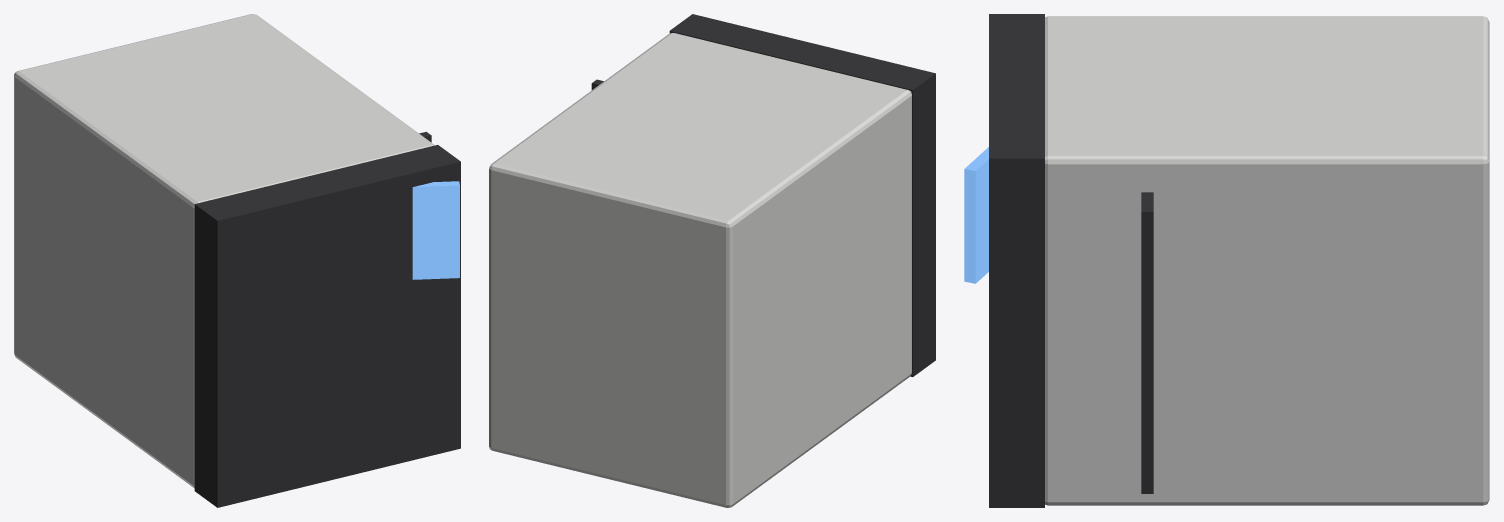
Rendered from printer_station.glb.
3 views of the same model, side by side, from view 1: azimuth 30°, elevation 25°; view 2: azimuth 150°, elevation 25°; view 3: azimuth 270°, elevation 25° (orthographic). The views are drawn at different scales.
Visible parts, largest first — view 1: printer_body, printer_top, printer_panel; view 2: printer_body, printer_top; view 3: printer_body, printer_top, printer_tray, printer_panel.
Part boxes in pixels (x1,y1,x2,y2): printer_body: (14,14,434,488); printer_top: (194,145,460,507); printer_panel: (412,181,459,279); printer_body: (489,33,911,507); printer_top: (669,14,935,376); printer_body: (1045,16,1489,505); printer_top: (989,14,1044,507); printer_tray: (1141,192,1153,493); printer_panel: (964,147,988,283).
Bounding box in the file's own units: 0.625 × 0.62 × 0.8444.
